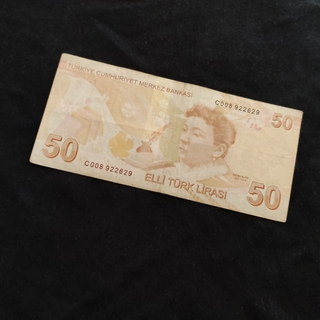50TLBack: (29, 52, 304, 224)
